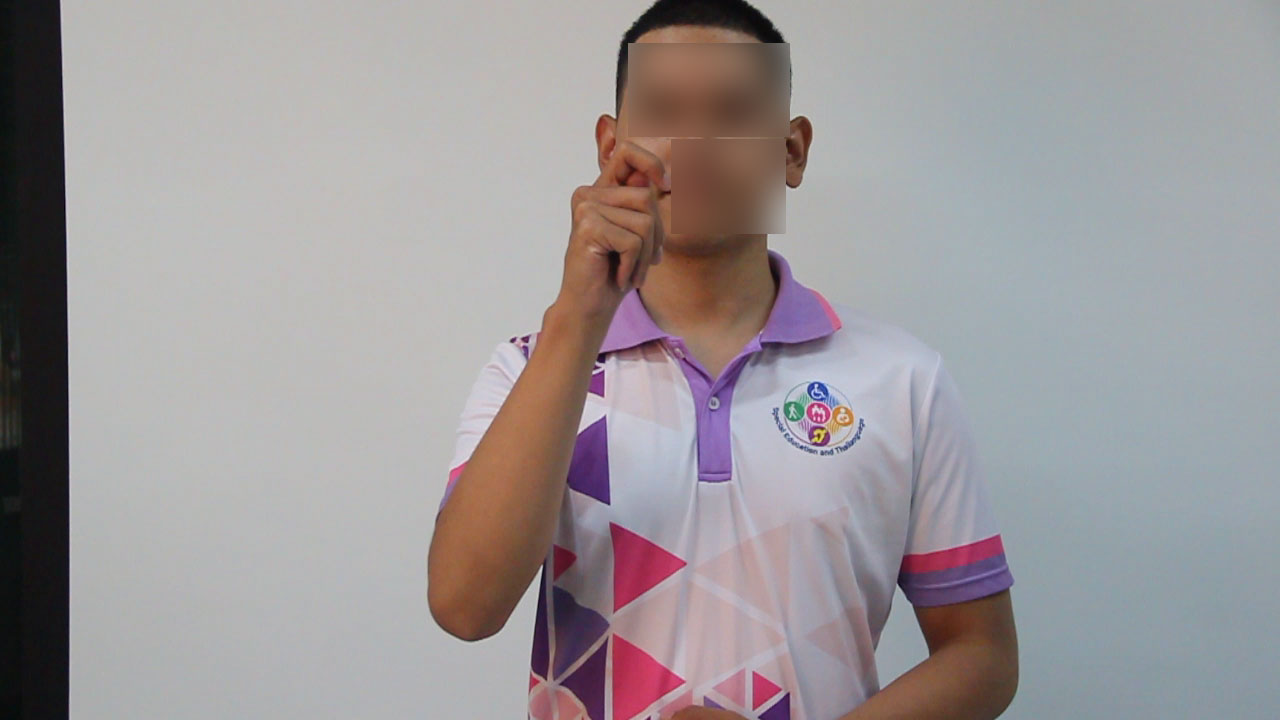or: (561, 134, 670, 319)
